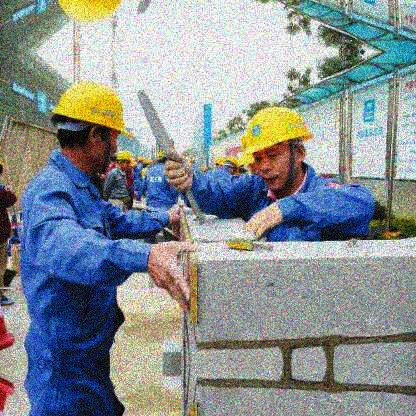helmet: (55, 79, 130, 174), (246, 109, 311, 190), (117, 150, 130, 171), (137, 156, 144, 164)
